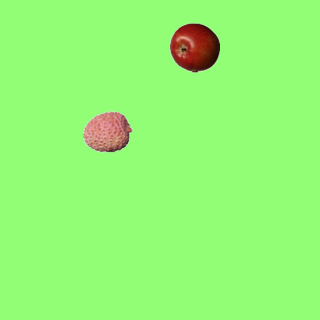Apple Braeburn: (169, 22, 219, 72)
Lychee: (82, 106, 132, 156)
